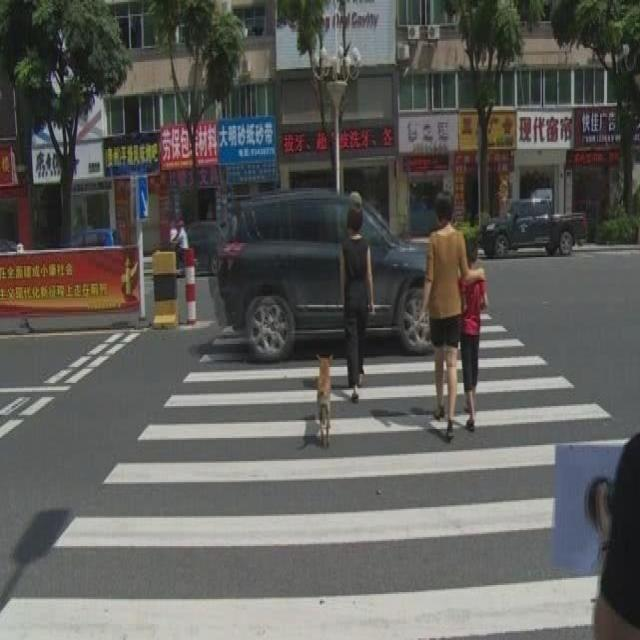non-fight: (420, 192, 484, 436), (334, 192, 378, 400)
